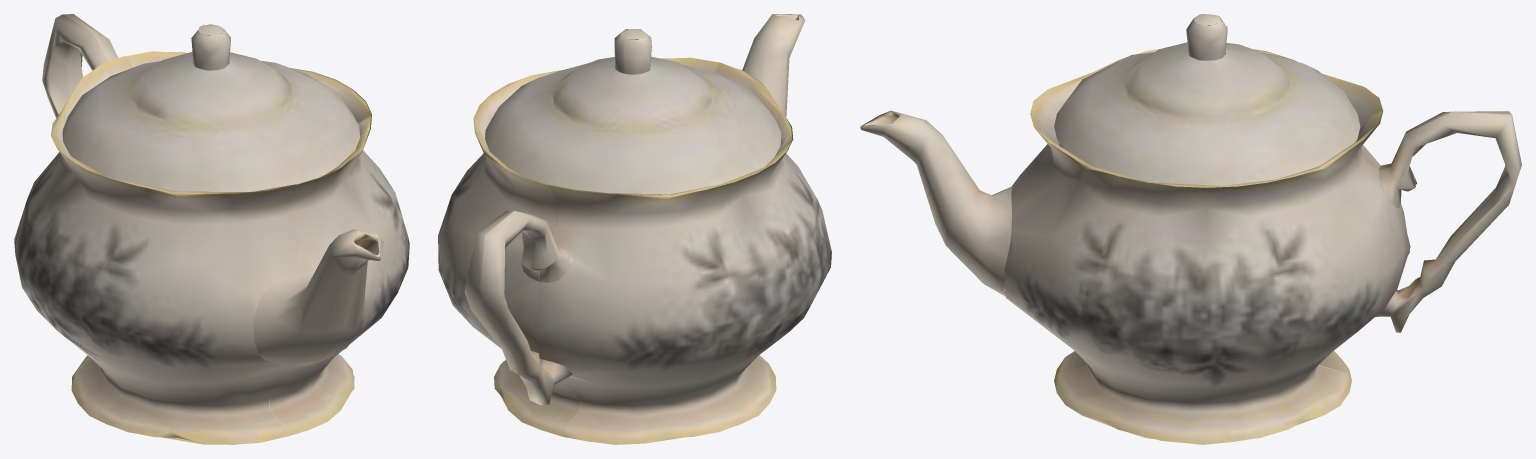
Rendered from teapot.glb.
3 views of the same model, side by side, from view 1: azimuth 30°, elevation 25°; view 2: azimuth 150°, elevation 25°; view 3: azimuth 270°, elevation 25° (orthographic). The views are drawn at different scales.
Parts seen in each view (by area): view 1: tea_set_01_teapot_01; view 2: tea_set_01_teapot_01; view 3: tea_set_01_teapot_01.
Part boxes in pixels (x1,y1,x2,y2): tea_set_01_teapot_01: (14,14,409,444); tea_set_01_teapot_01: (438,14,831,444); tea_set_01_teapot_01: (860,14,1521,444).
Bounding box in the file's own units: 0.1653 × 0.1644 × 0.2685.
Materials: 1 (1 with a texture image).
